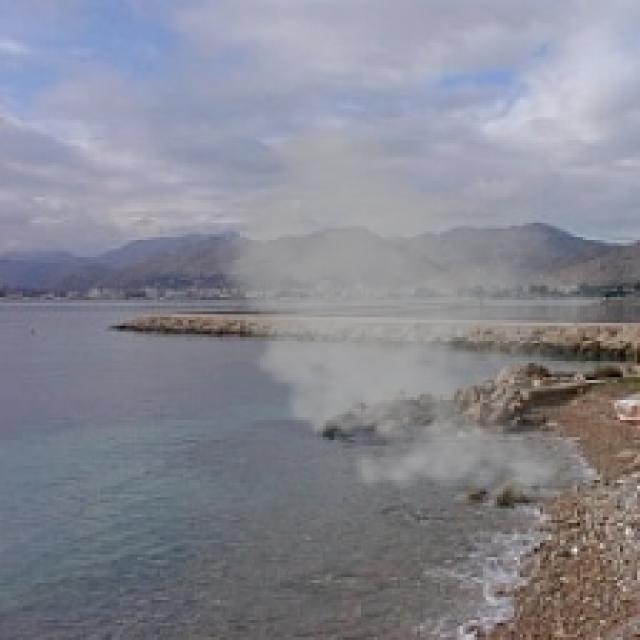smoke: (200, 117, 606, 514)
